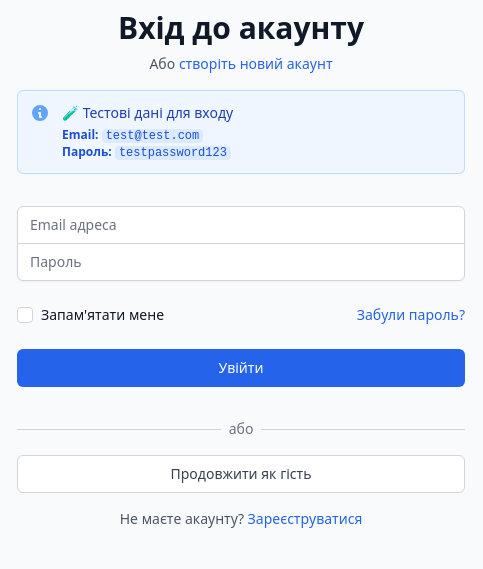
LoginPage Component › Form Validation › shows validation error for empty password
Type "test@test.com" into the field labelled "Email адреса".
click(241, 225); type("test@test.com")  # box [17,206,465,244]
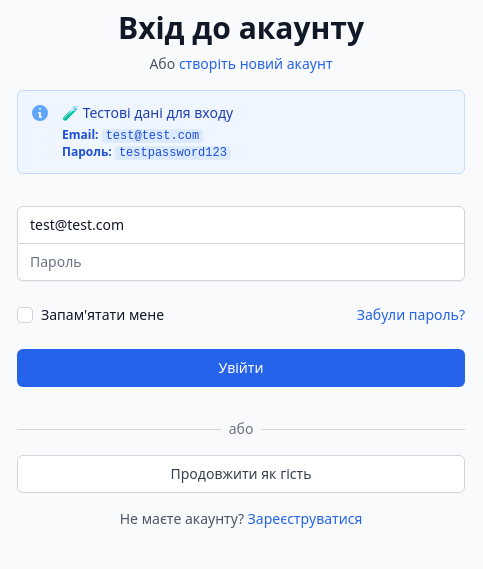
Click the button "Увійти".
click(241, 368)  # box [17,349,465,387]
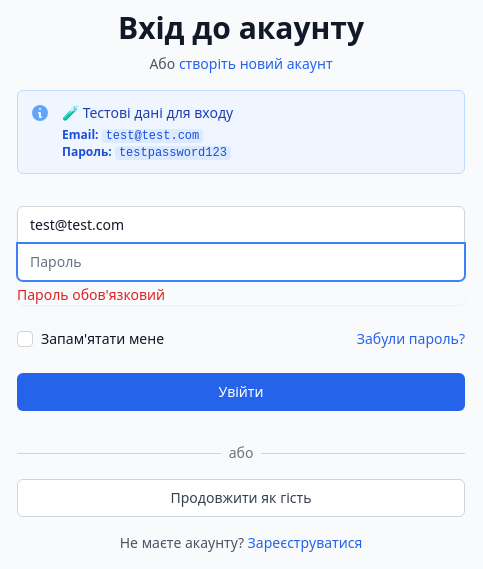
Check: the text "Пароль обов'язковий" is shown, box [17,285,165,304]
